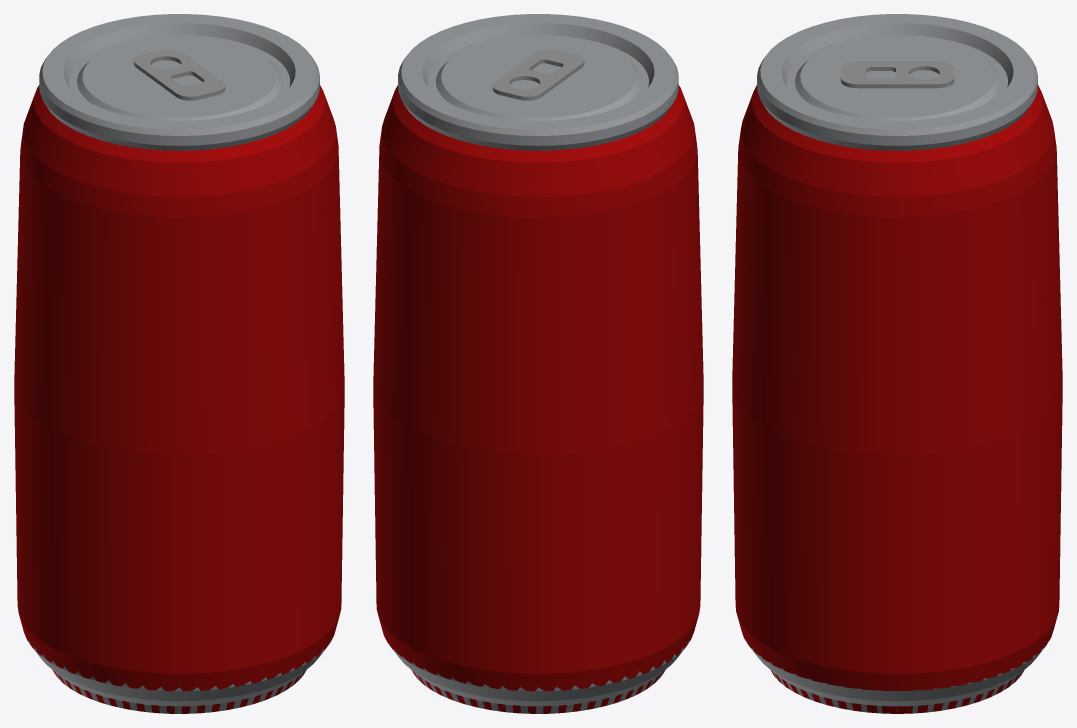
3 renders of one model, left to right at view 1: azimuth 30°, elevation 25°; view 2: azimuth 150°, elevation 25°; view 3: azimuth 270°, elevation 25°, orthographic.
Parts seen in each view (by area): view 1: can; view 2: can; view 3: can.
Part boxes in pixels (x1=…): can: x1=14, y1=14, x2=344, y2=713; can: x1=373, y1=14, x2=703, y2=713; can: x1=732, y1=14, x2=1062, y2=713.
Size of the model in its own units: 0.0612 by 0.12 by 0.0612.
